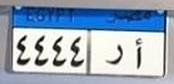4: (67, 34, 85, 70), (14, 32, 33, 65), (50, 33, 67, 69), (32, 33, 50, 67)
alif: (133, 35, 145, 71)
raa: (104, 41, 124, 69)
